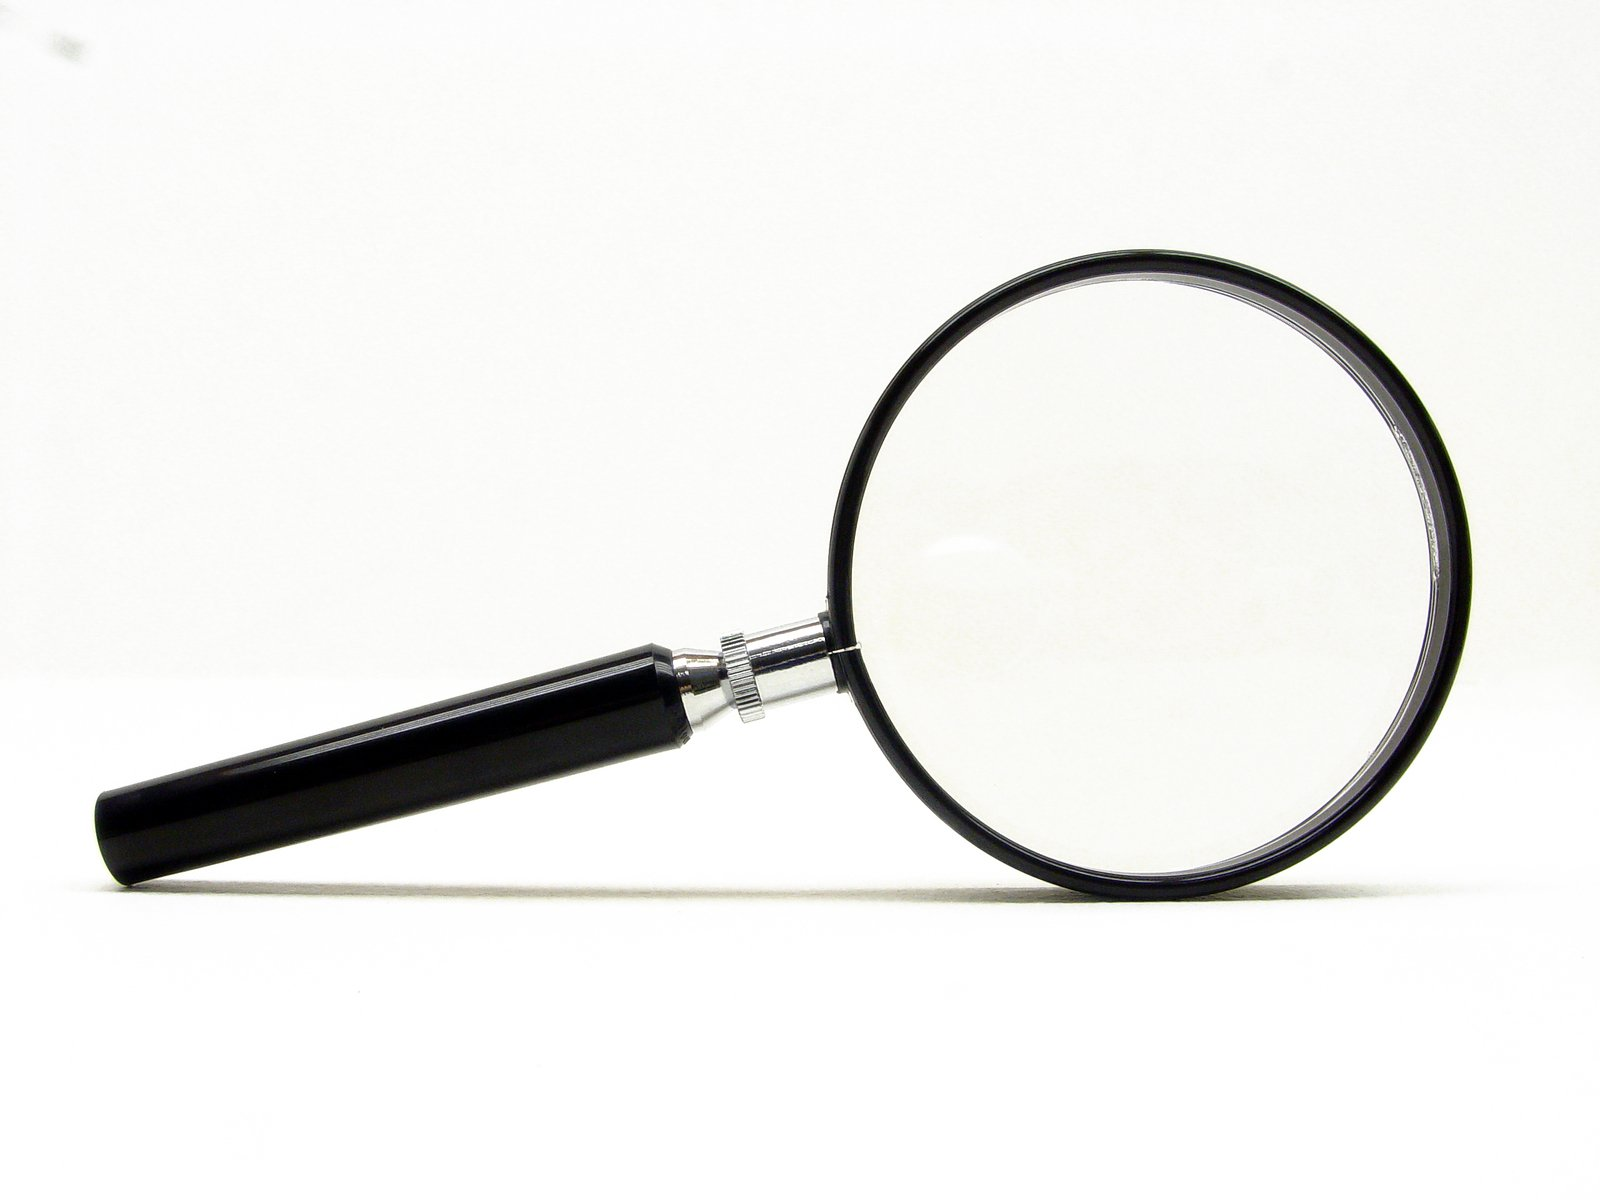magnifying-glass: (774, 229, 1485, 899)
